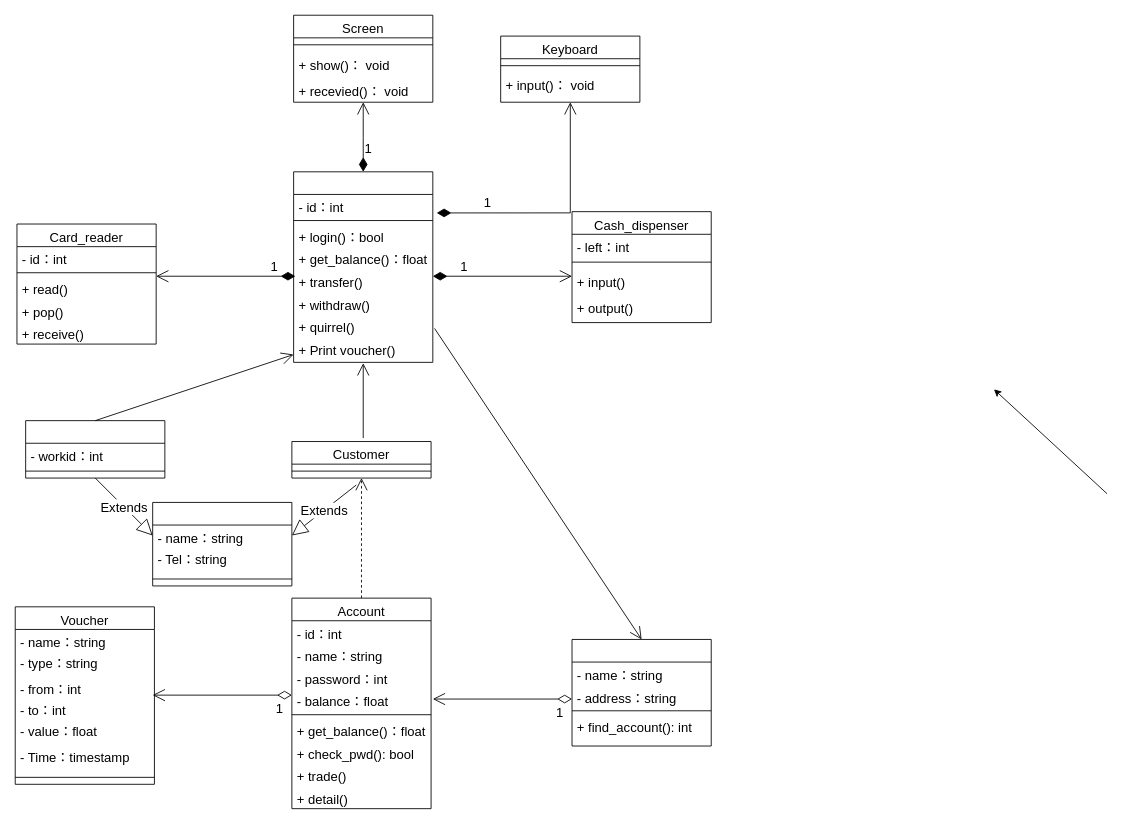
Some shapes in this 1129 by 827 pixel diagram are drawn without their labels. The box of each missing label's shape, as (x1, y1, x2, y2) in pixels:
Admin: (25, 420, 165, 478)
ATM: (293, 171, 433, 362)
Bank_database: (571, 639, 711, 746)
Person: (152, 502, 292, 586)
